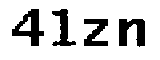1: (46, 3, 79, 49)
4: (9, 2, 45, 49)
n: (116, 13, 154, 53)
z: (81, 15, 112, 49)
